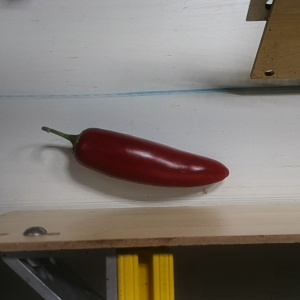Cut Point: (63, 126, 101, 163)
